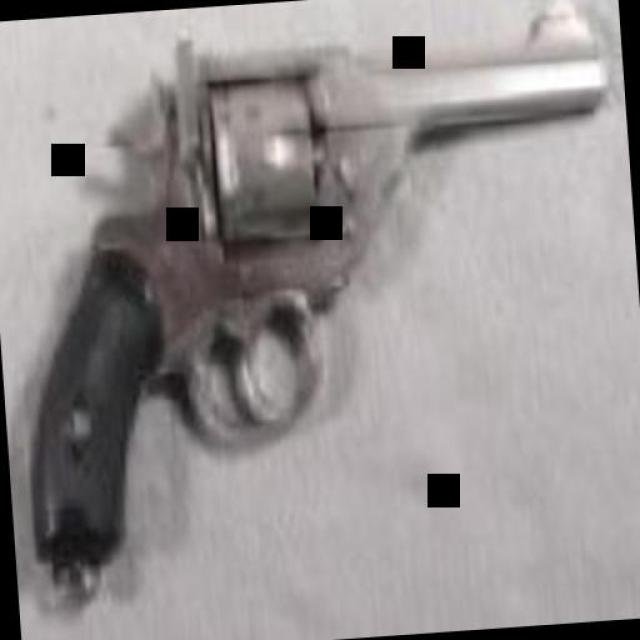gun: (0, 0, 634, 568)
